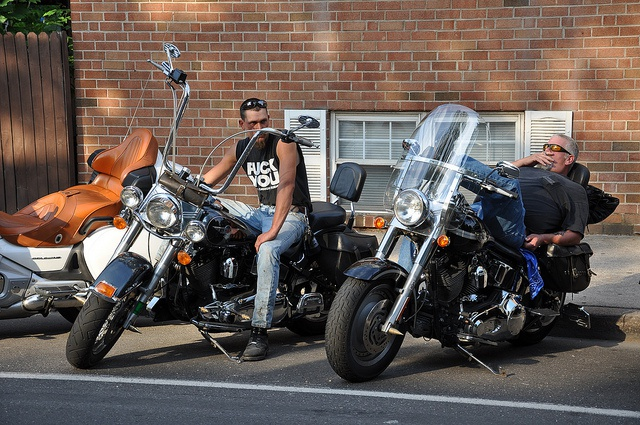non-vehicle: (74, 55, 374, 363), (329, 102, 598, 379), (2, 129, 164, 323)
